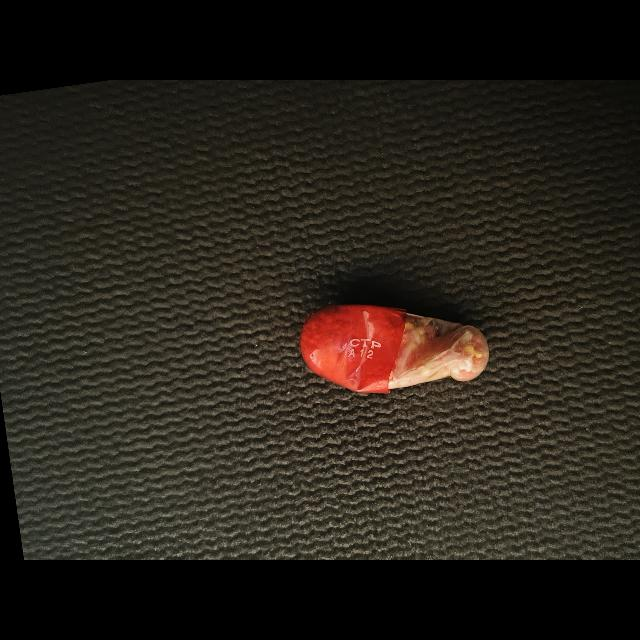Defective Capsule: (300, 305, 489, 393)
